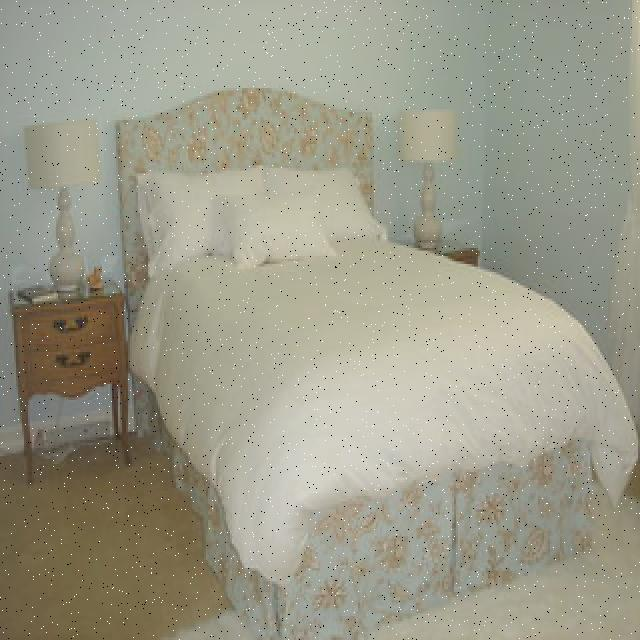bed: (128, 157, 601, 544)
